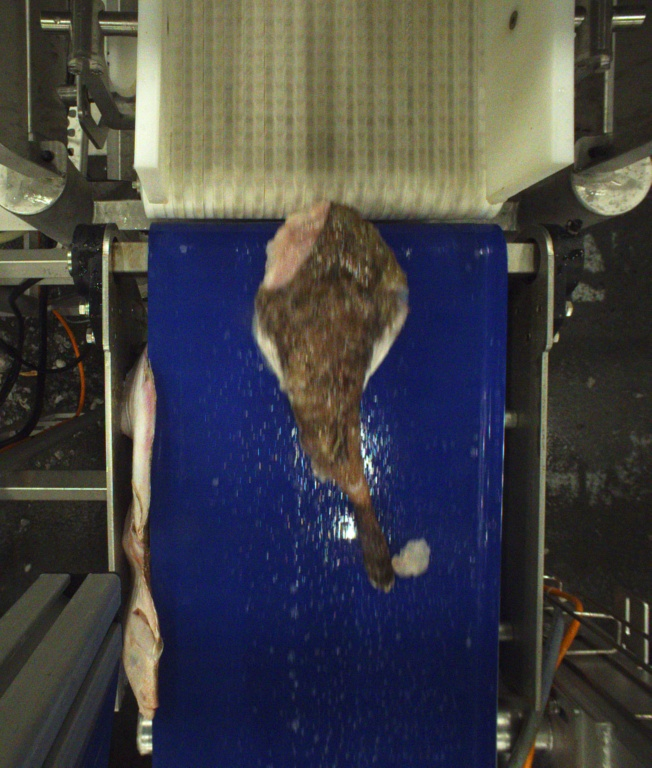ANF: (250, 202, 408, 593)
